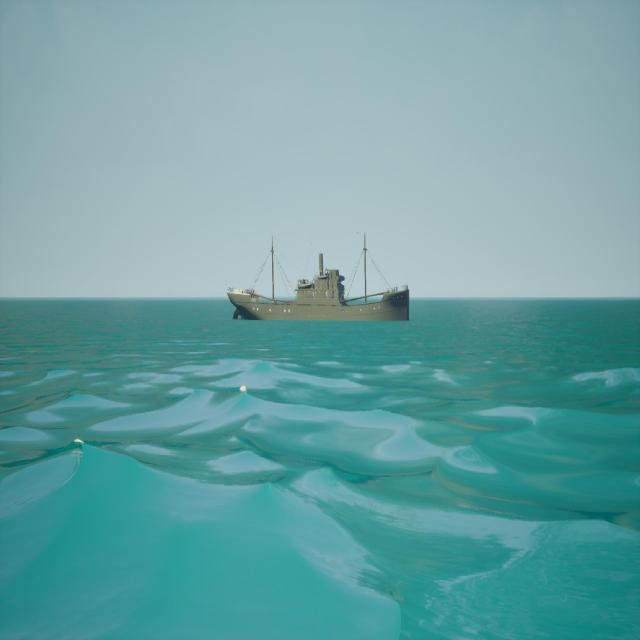fishing ship: (228, 233, 412, 324)
